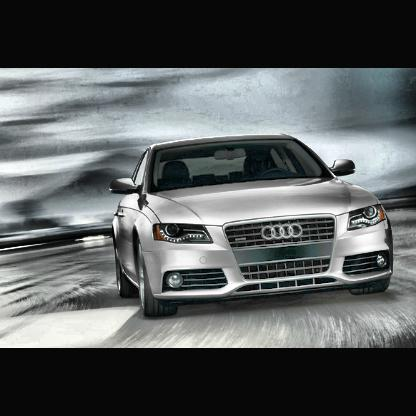Audi S4 Sedan 2012: (111, 135, 396, 322)
